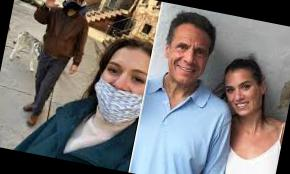mask_weared_incorrect: (90, 58, 149, 128)
with_mask: (63, 1, 82, 14)
without_mask: (167, 31, 211, 87), (223, 74, 262, 116)
